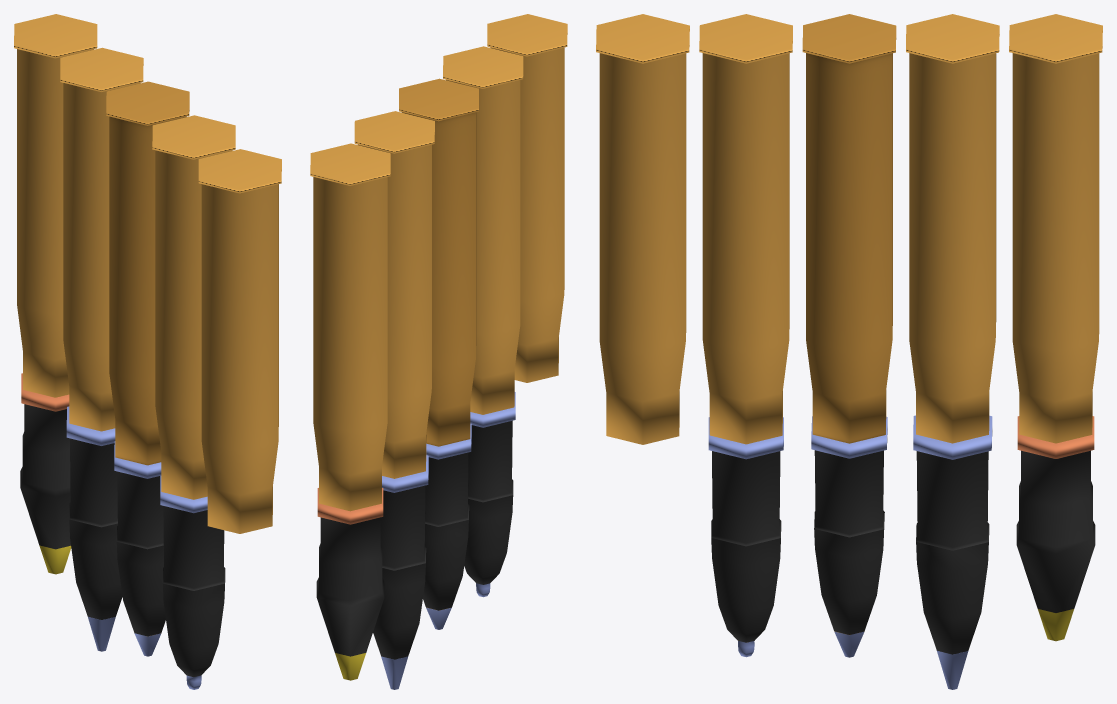
Rendered from pzIV_ammo.glb.
3 views of the same model, side by side, from view 1: azimuth 30°, elevation 25°; view 2: azimuth 150°, elevation 25°; view 3: azimuth 270°, elevation 25° (orthographic). The views are drawn at different scales.
Parts seen in each view (by area): view 1: shell.005, shell.002, shell.004, shell.003, shell.001; view 2: shell.001, shell.004, shell.002, shell.003, shell.005; view 3: shell.004, shell.002, shell.001, shell.003, shell.005.
Part boxes in pixels (x1=…): shell.005: x1=198, y1=149, x2=281, y2=533; shell.002: x1=152, y1=115, x2=235, y2=689; shell.004: x1=60, y1=47, x2=143, y2=651; shell.003: x1=106, y1=81, x2=189, y2=656; shell.001: x1=14, y1=14, x2=97, y2=574; shell.001: x1=310, y1=143, x2=390, y2=680; shell.004: x1=354, y1=111, x2=434, y2=689; shell.002: x1=443, y1=46, x2=523, y2=597; shell.003: x1=399, y1=78, x2=478, y2=629; shell.005: x1=487, y1=14, x2=567, y2=382; shell.004: x1=906, y1=14, x2=999, y2=689; shell.002: x1=699, y1=14, x2=792, y2=657; shell.001: x1=1009, y1=14, x2=1102, y2=641; shell.003: x1=802, y1=14, x2=896, y2=657; shell.005: x1=596, y1=14, x2=689, y2=444.
Size of the model in its own units: 0.1252 by 0.8348 by 0.589.
6 materials, 1 textured.
